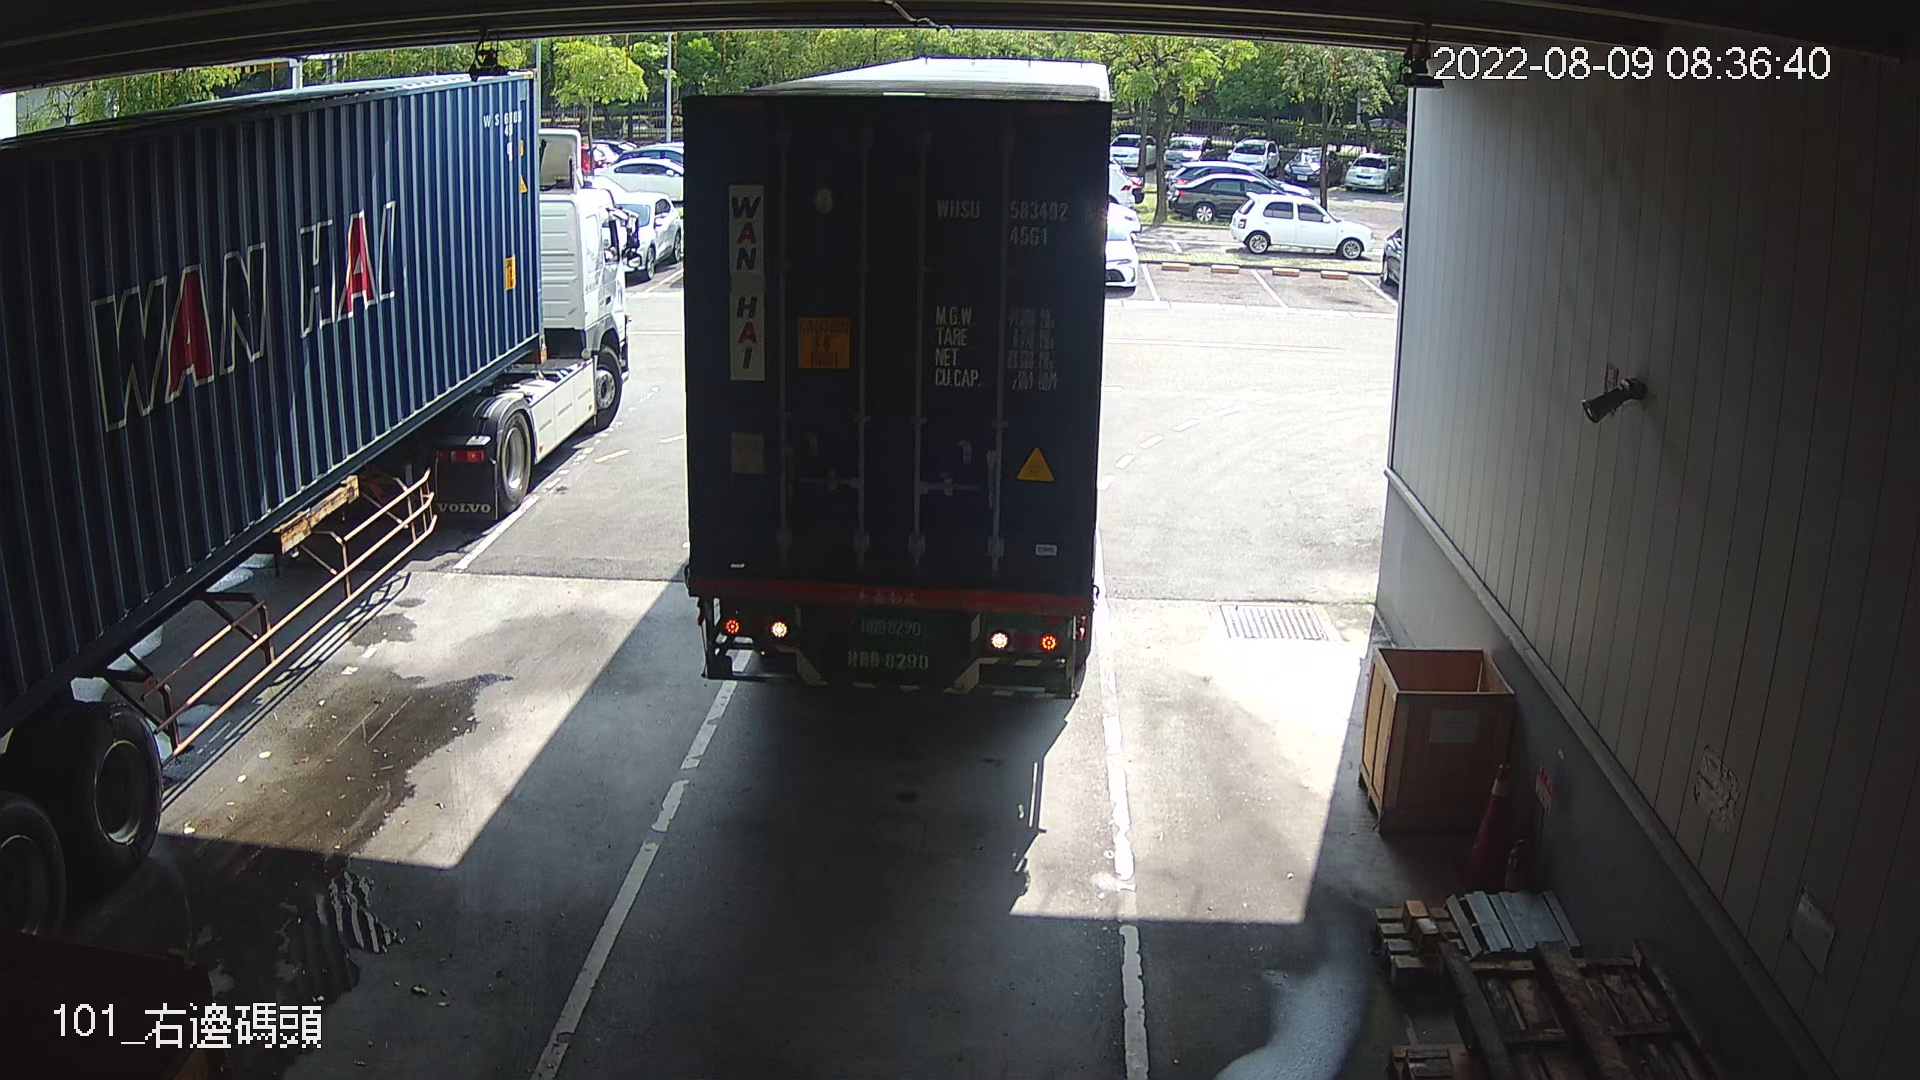container: (926, 186, 1102, 258)
